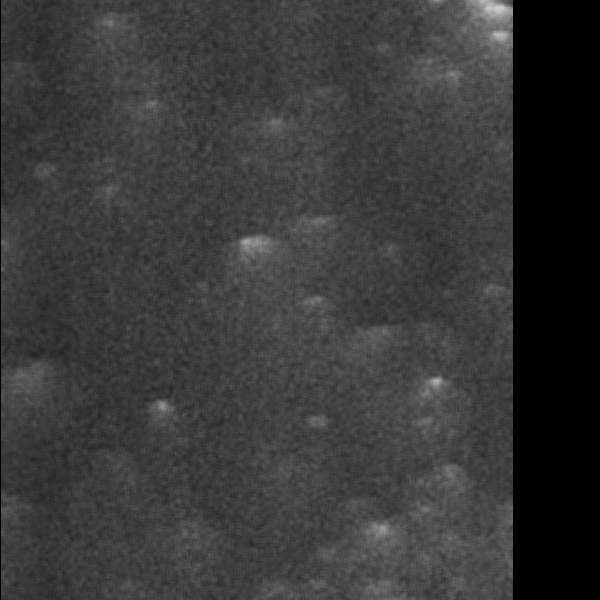spark: (324, 317, 416, 355), (228, 232, 275, 302), (8, 361, 48, 430), (478, 1, 512, 60), (284, 211, 340, 240), (253, 111, 295, 149), (362, 518, 399, 561), (118, 102, 159, 136), (92, 8, 122, 52), (292, 410, 340, 437), (423, 367, 447, 415), (147, 396, 174, 435), (31, 154, 58, 190), (101, 180, 118, 206)
